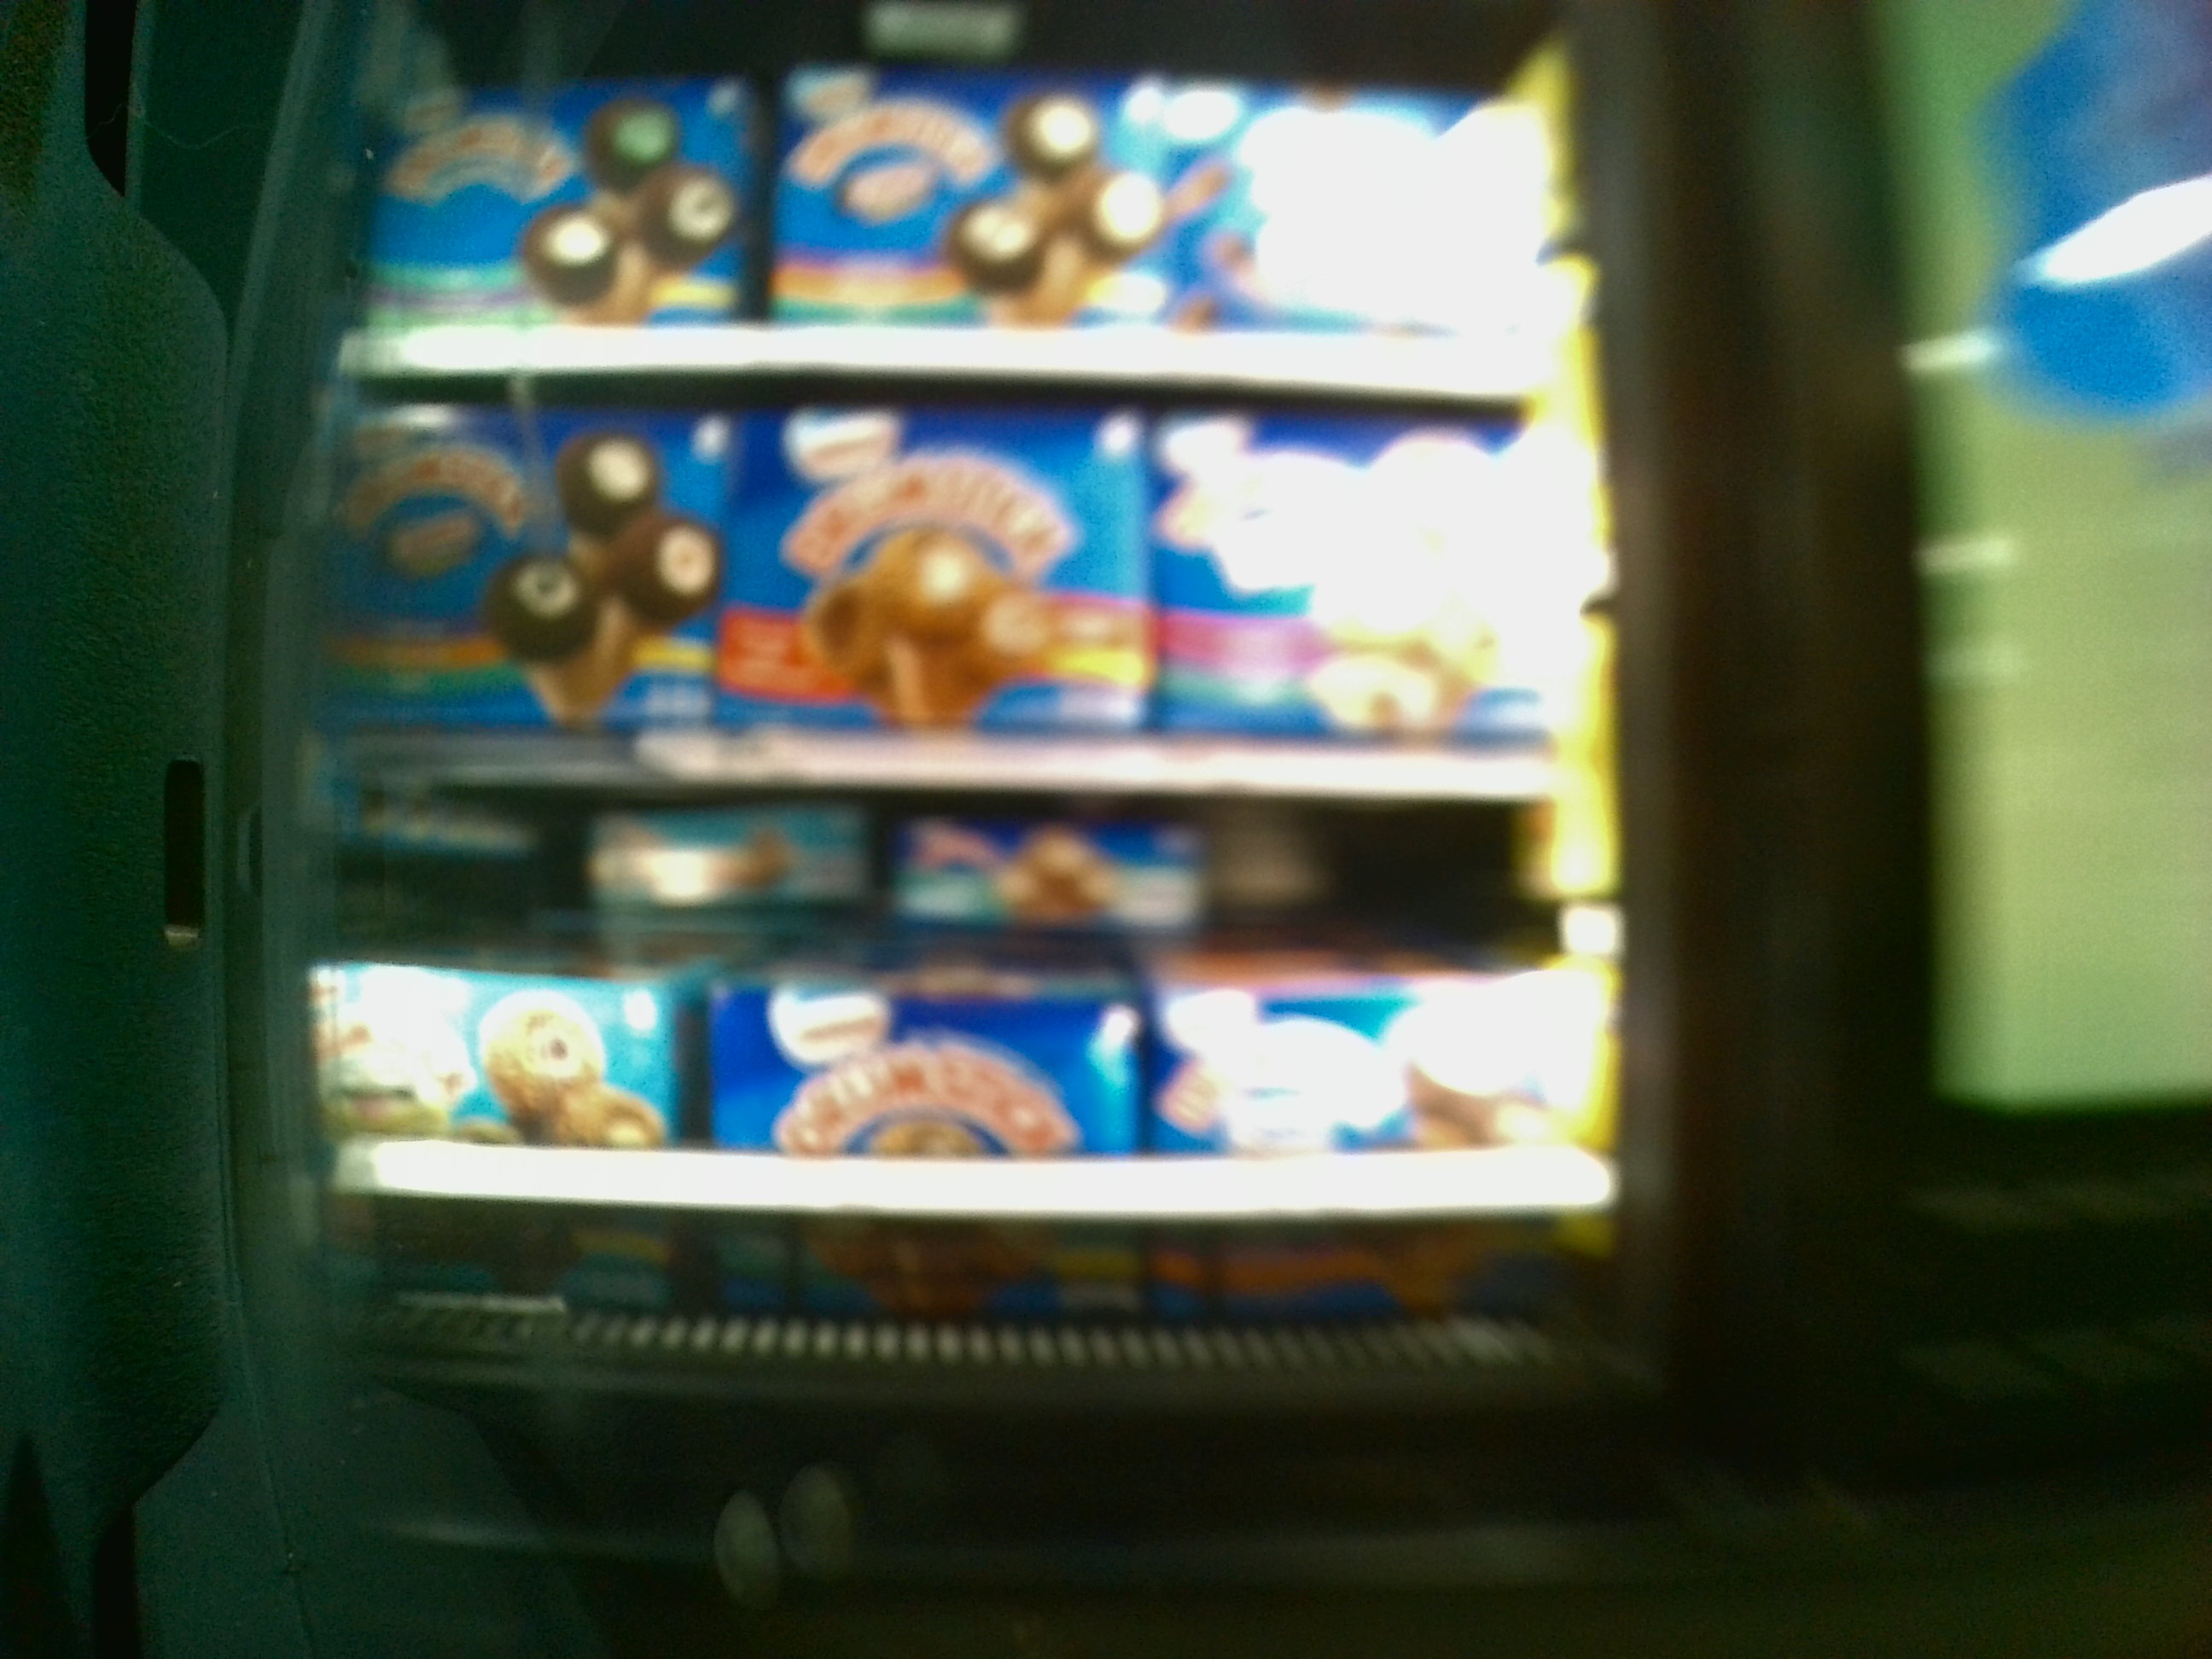shelf: (327, 819, 1606, 1331), (336, 383, 1588, 805), (343, 19, 1602, 378)
